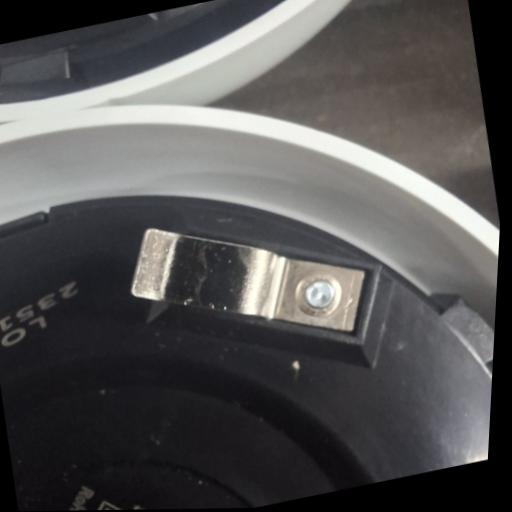yaysiz: (113, 185, 379, 378)
